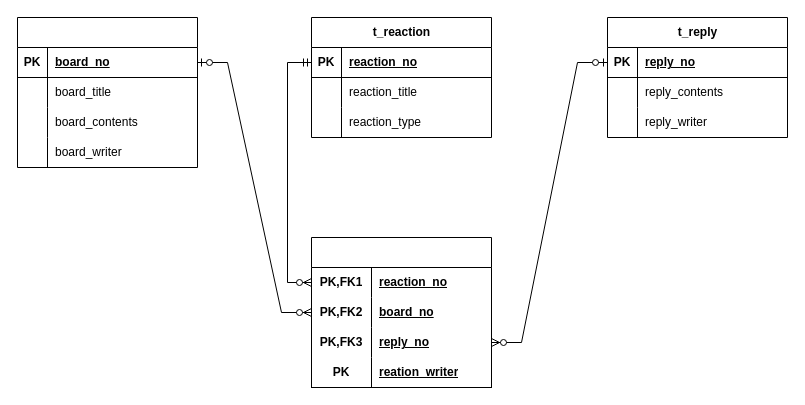
Some shapes in this 805 by 405 pixel diagram are drawn without their labels. Here are the shapes that lost their labels. From the top down, the box of each, then its label:
(16, 16, 198, 168): t_board
(310, 236, 492, 388): t_reaction_mapping
